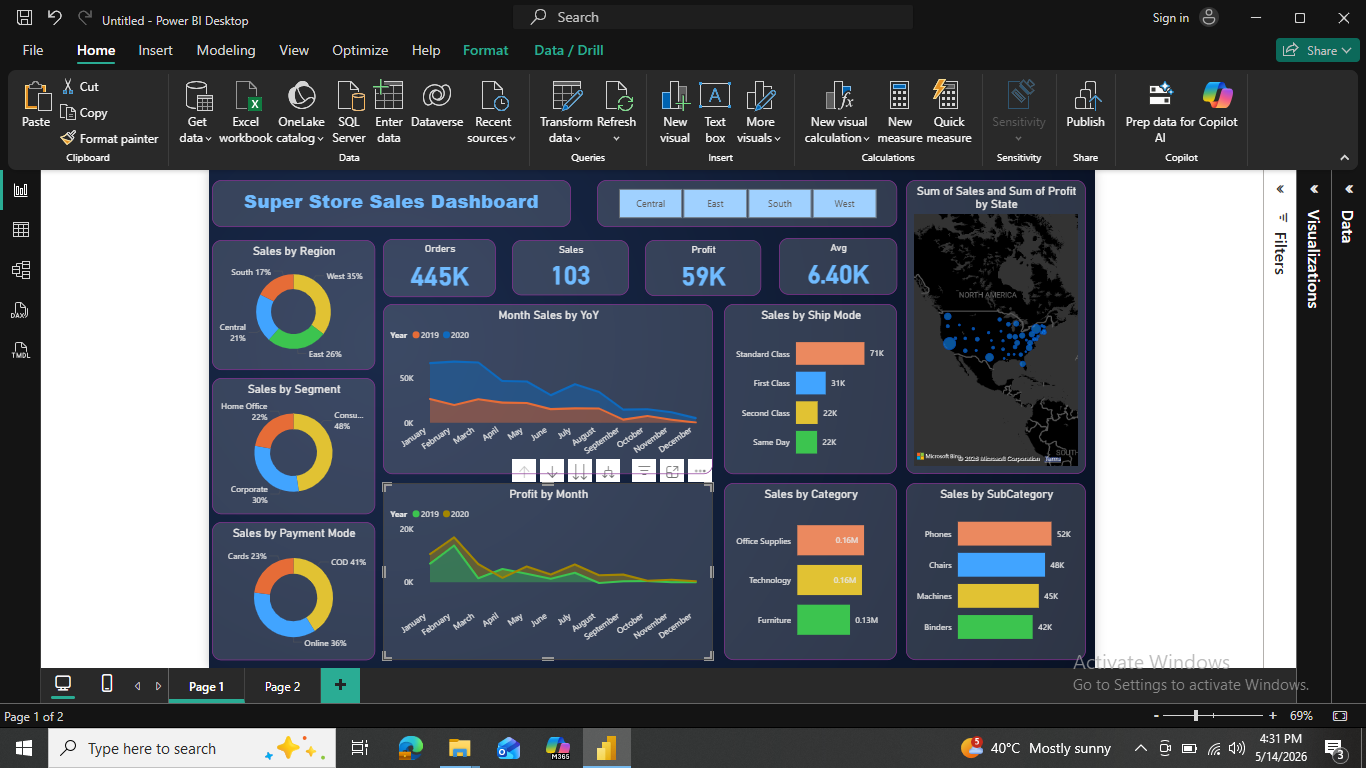

What the dashboard file says about the page in this screenshot:
{"tool":"powerbi","page":{"name":"Page 1","canvas":[1280,720],"ordinal":0},"visuals":[{"type":"clusteredBarChart","title":"Sales by Category","fields":{"Category":["SuperStore_Sales_Dataset.Category"],"Y":["Sum(SuperStore_Sales_Dataset.Sales)"]},"box":[744.6,452.5,250.1,255.9],"z":0},{"type":"clusteredBarChart","title":"Sales by SubCategory","fields":{"Category":["SuperStore_Sales_Dataset.Sub-Category"],"Y":["Sum(SuperStore_Sales_Dataset.Sales)"]},"box":[1007.7,452.5,260.2,255.9],"z":1},{"type":"clusteredBarChart","title":"Sales by Ship Mode","fields":{"Category":["SuperStore_Sales_Dataset.Ship Mode"],"Y":["Sum(SuperStore_Sales_Dataset.Sales)"]},"box":[744.6,193.7,250.1,245.8],"z":2},{"type":"stackedAreaChart","title":"Profit by Month","fields":{"Category":["SuperStore_Sales_Dataset.Order Date.Variation.Date Hierarchy.Month","SuperStore_Sales_Dataset.Order Date.Variation.Date Hierarchy.Day"],"Series":["SuperStore_Sales_Dataset.Order Date.Variation.Date Hierarchy.Year"],"Y":["Sum(SuperStore_Sales_Dataset.Profit)"]},"box":[251.6,452.5,477.1,255.9],"z":3},{"type":"stackedAreaChart","title":"Month Sales by YoY","fields":{"Y":["Sum(SuperStore_Sales_Dataset.Sales)"],"Category":["SuperStore_Sales_Dataset.Order Date.Variation.Date Hierarchy.Month","SuperStore_Sales_Dataset.Order Date.Variation.Date Hierarchy.Day"],"Series":["SuperStore_Sales_Dataset.Order Date.Variation.Date Hierarchy.Year"]},"box":[251.6,193.7,477.1,245.8],"z":4},{"type":"map","fields":{"Category":["SuperStore_Sales_Dataset.State"],"Size":["Sum(SuperStore_Sales_Dataset.Sales)"]},"box":[1007.7,14.5,260.2,425.1],"z":5},{"type":"donutChart","title":"Sales by Segment","fields":{"Category":["SuperStore_Sales_Dataset.Segment"],"Y":["Sum(SuperStore_Sales_Dataset.Sales)"]},"box":[4.3,300.7,235.7,196.6],"z":6},{"type":"donutChart","title":" Sales by Payment Mode","fields":{"Category":["SuperStore_Sales_Dataset.Payment Mode"],"Y":["Sum(SuperStore_Sales_Dataset.Sales)"]},"box":[4.3,508.9,235.7,199.5],"z":7},{"type":"slicer","fields":{"Values":["SuperStore_Sales_Dataset.Region"]},"box":[561,14.5,433.7,68],"z":8},{"type":"textbox","box":[4.3,14.5,543.6,68],"z":9},{"type":"card","title":"Orders","fields":{"Values":["Sum(SuperStore_Sales_Dataset.Sales)"]},"box":[251.6,99.8,163.4,83.9],"z":10},{"type":"card","title":"Avg","fields":{"Values":["Sum(SuperStore_Sales_Dataset.Quantity)"]},"box":[824.1,98.3,170.6,82.4],"z":11},{"type":"card","title":"Profit","fields":{"Values":["Sum(SuperStore_Sales_Dataset.Profit)"]},"box":[630.4,101.2,167.7,81],"z":12},{"type":"card","title":"Sales","fields":{"Values":["Avg(SuperStore_Sales_Dataset.AvgDelivery)"]},"box":[438.1,101.2,169.2,79.5],"z":13},{"type":"donutChart","title":"Sales by Region","fields":{"Category":["SuperStore_Sales_Dataset.Region"],"Y":["Sum(SuperStore_Sales_Dataset.Sales)"]},"box":[4.3,101.2,235.7,188],"z":14}]}

Visuals, with their boxes on the page's 1280x720 design canvas (x1, y1, x2, y2). These are canvas units, not pixel positions in the 1366x768 screenshot, which may show the page scaled, cropped or inside an application window:
"Sales by Category" clusteredBarChart: Rect(745, 452, 995, 708)
"Sales by SubCategory" clusteredBarChart: Rect(1008, 452, 1268, 708)
"Sales by Ship Mode" clusteredBarChart: Rect(745, 194, 995, 440)
"Profit by Month" stackedAreaChart: Rect(252, 452, 729, 708)
"Month Sales by YoY" stackedAreaChart: Rect(252, 194, 729, 440)
map - SuperStore_Sales_Dataset.State x Sum(SuperStore_Sales_Dataset.Sales): Rect(1008, 14, 1268, 440)
"Sales by Segment" donutChart: Rect(4, 301, 240, 497)
" Sales by Payment Mode" donutChart: Rect(4, 509, 240, 708)
slicer - SuperStore_Sales_Dataset.Region: Rect(561, 14, 995, 82)
textbox: Rect(4, 14, 548, 82)
"Orders" card: Rect(252, 100, 415, 184)
"Avg" card: Rect(824, 98, 995, 181)
"Profit" card: Rect(630, 101, 798, 182)
"Sales" card: Rect(438, 101, 607, 181)
"Sales by Region" donutChart: Rect(4, 101, 240, 289)
